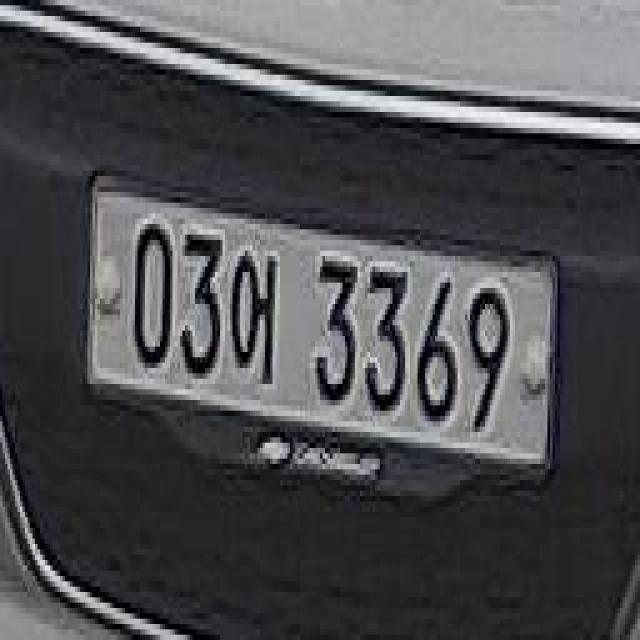illegal_plate: (84, 182, 562, 513)
